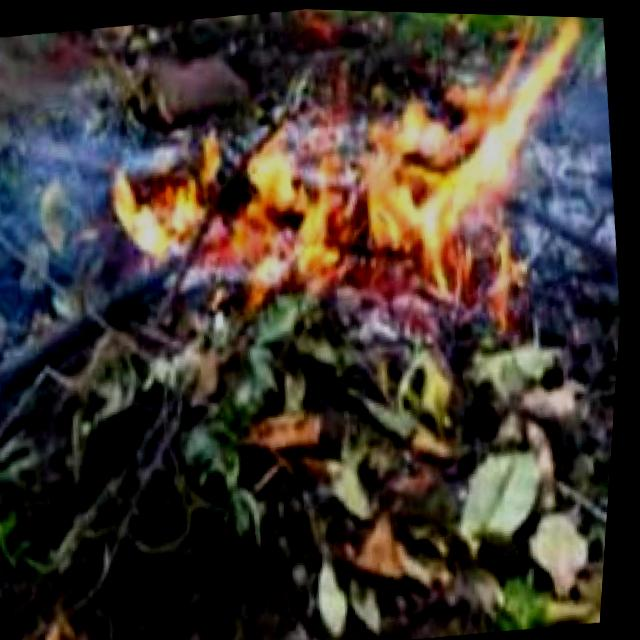Fire: (300, 12, 566, 304), (101, 125, 377, 310)
